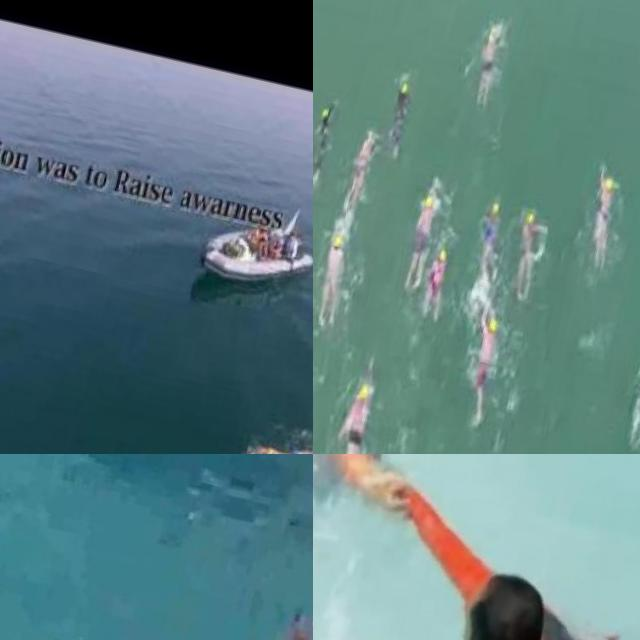drowning: (313, 454, 483, 558), (178, 550, 313, 640)
swimming: (336, 473, 640, 640), (452, 310, 507, 434), (393, 172, 447, 297), (574, 157, 628, 281), (313, 219, 358, 344), (509, 202, 553, 300), (326, 382, 381, 454), (229, 416, 313, 454)
